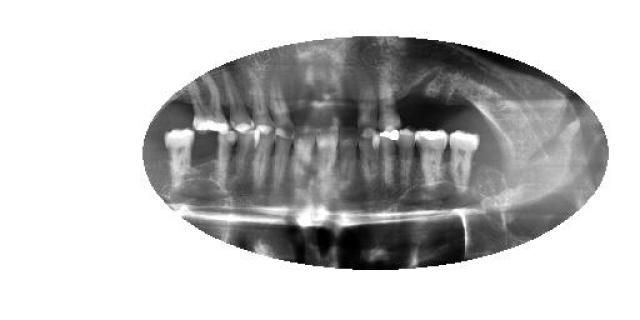Fillings: (188, 72, 230, 136), (415, 128, 447, 188), (380, 128, 399, 192)
